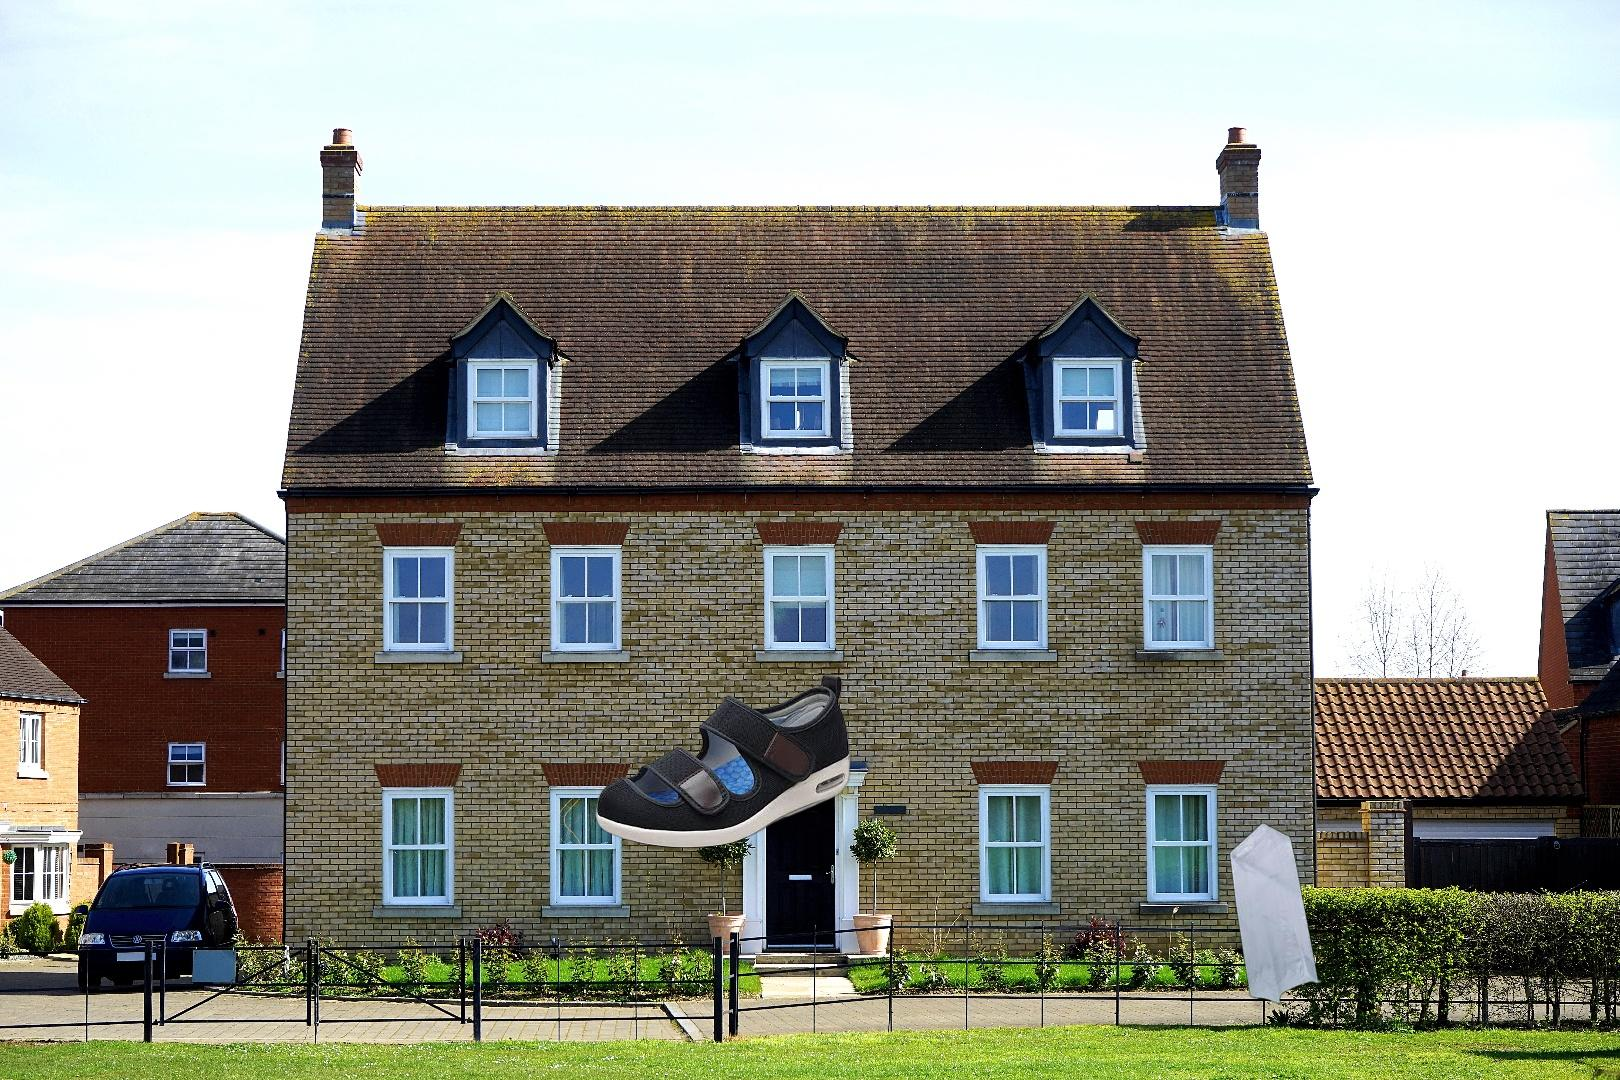biological: (1466, 1069, 1620, 1080)
plastic-bag: (1228, 820, 1437, 1012)
shoes: (593, 673, 852, 851)
